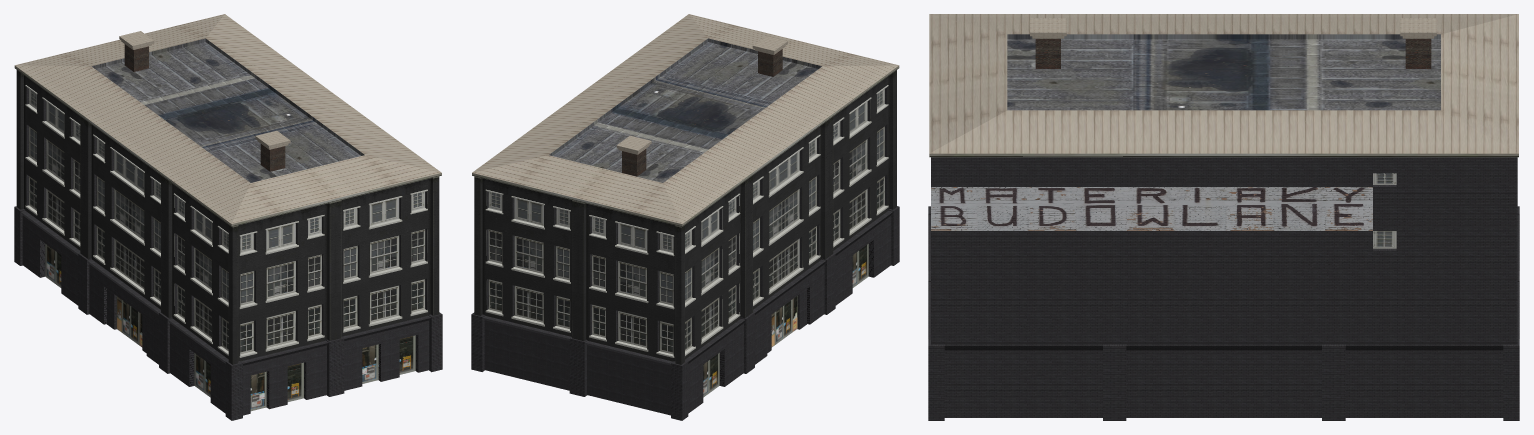
File: Building_A08.obj
The picture shows the model from 3 angles, left to right: view 1: azimuth 30°, elevation 25°; view 2: azimuth 150°, elevation 25°; view 3: azimuth 270°, elevation 25°; orthographic projection. The views are drawn at different scales.
Parts seen in each view (by area): view 1: K_Building_A08_00; view 2: K_Building_A08_00; view 3: K_Building_A08_00.
Boxes of the visible parts, x1,y1,x2,y2 form: K_Building_A08_00: (14, 14, 442, 420); K_Building_A08_00: (471, 14, 899, 420); K_Building_A08_00: (928, 14, 1519, 420).
Bounding box in the file's own units: 13.14 × 13.67 × 23.48.
